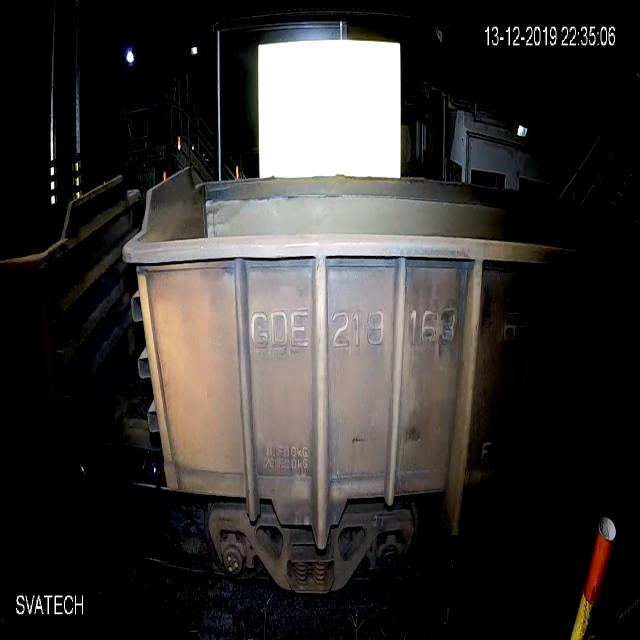gondola: (114, 138, 622, 619)
